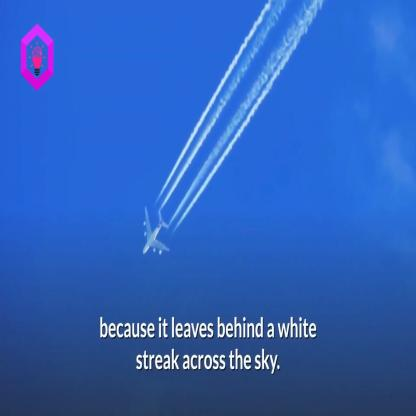plane: (135, 204, 172, 259)
